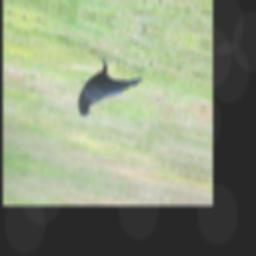Crow: (76, 53, 146, 131)
